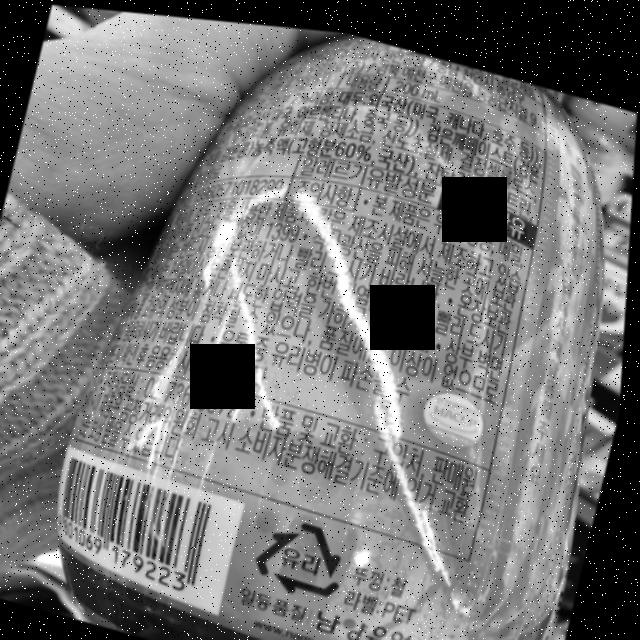Glass: (253, 501, 362, 601)
